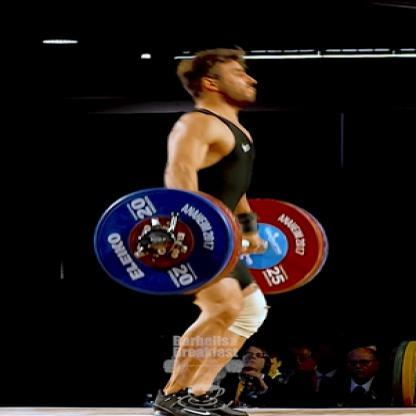Barbell: (137, 234, 156, 250)
